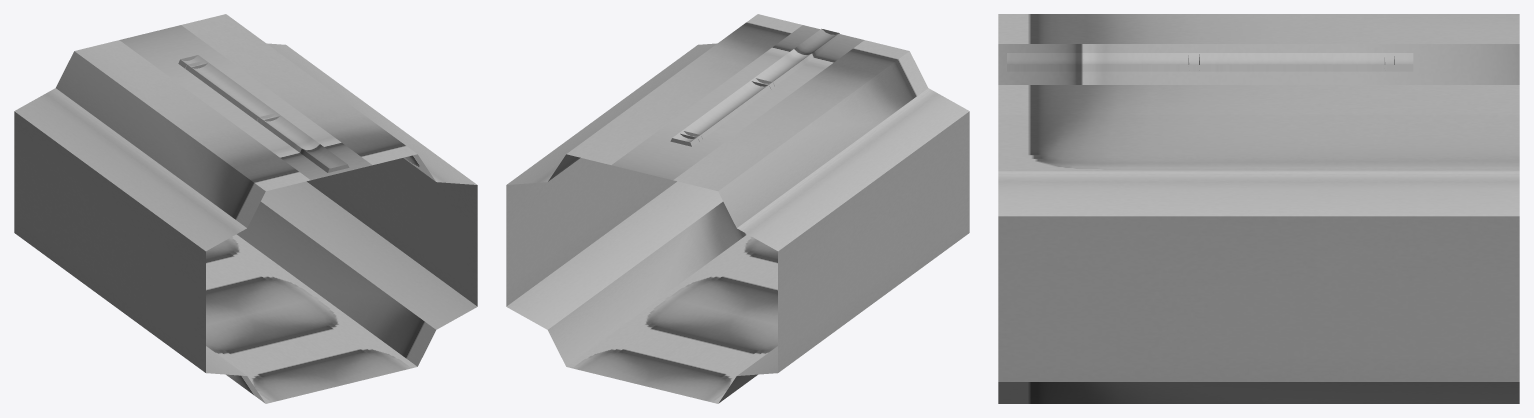
Rendered from corridorA.FBX.
3 renders of one model, left to right at view 1: azimuth 30°, elevation 25°; view 2: azimuth 150°, elevation 25°; view 3: azimuth 270°, elevation 25°, orthographic. The views are drawn at different scales.
Visible parts, largest first — view 1: corridorA; view 2: corridorA; view 3: corridorA.
Boxes of the visible parts, x1,y1,x2,y2 form: corridorA: (14, 14, 477, 403); corridorA: (506, 14, 969, 403); corridorA: (998, 14, 1519, 403).
Size of the model in its own units: 14.4 by 17.57 by 10.96.
